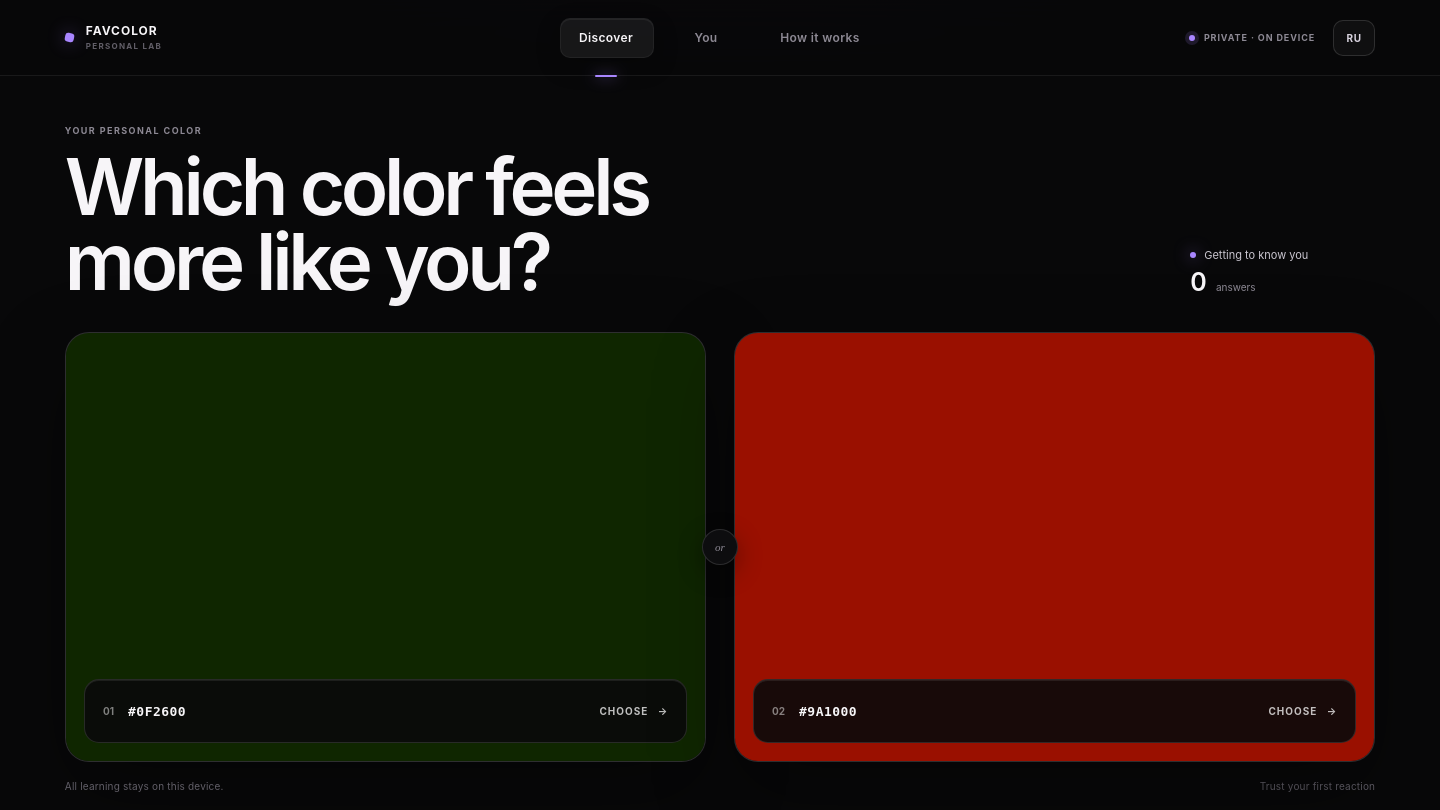
product flow › switches the interface to Russian and remembers the choice
Click the button with aria-label "Switch to Russian". click: (1354, 38)
box: x1=1333 y1=20 x2=1375 y2=56
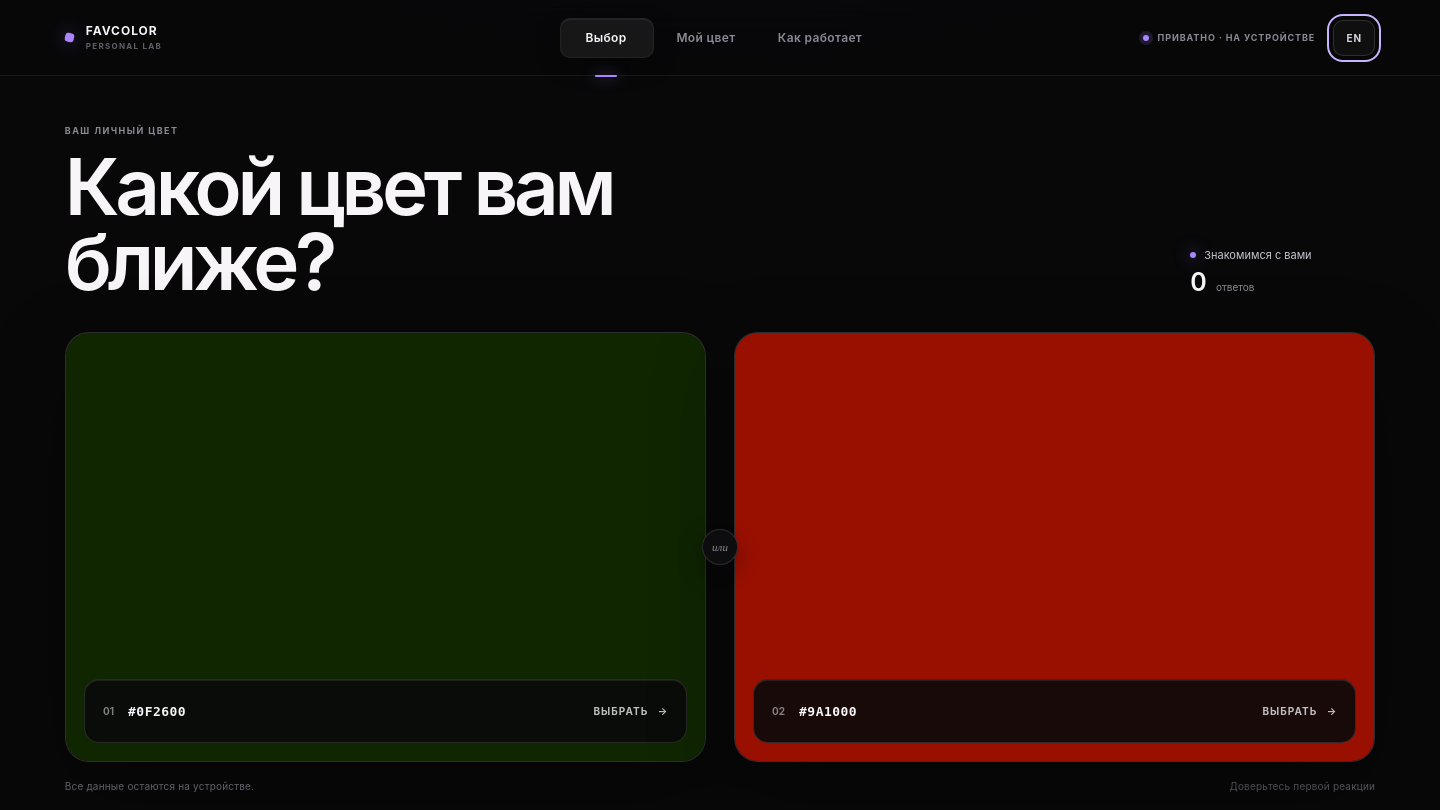
Expected: the tab "Выбор" is shown, x1=560 y1=18 x2=652 y2=56
Expected: the text "Ваш личный цвет" is shown, x1=65 y1=125 x2=178 y2=136
